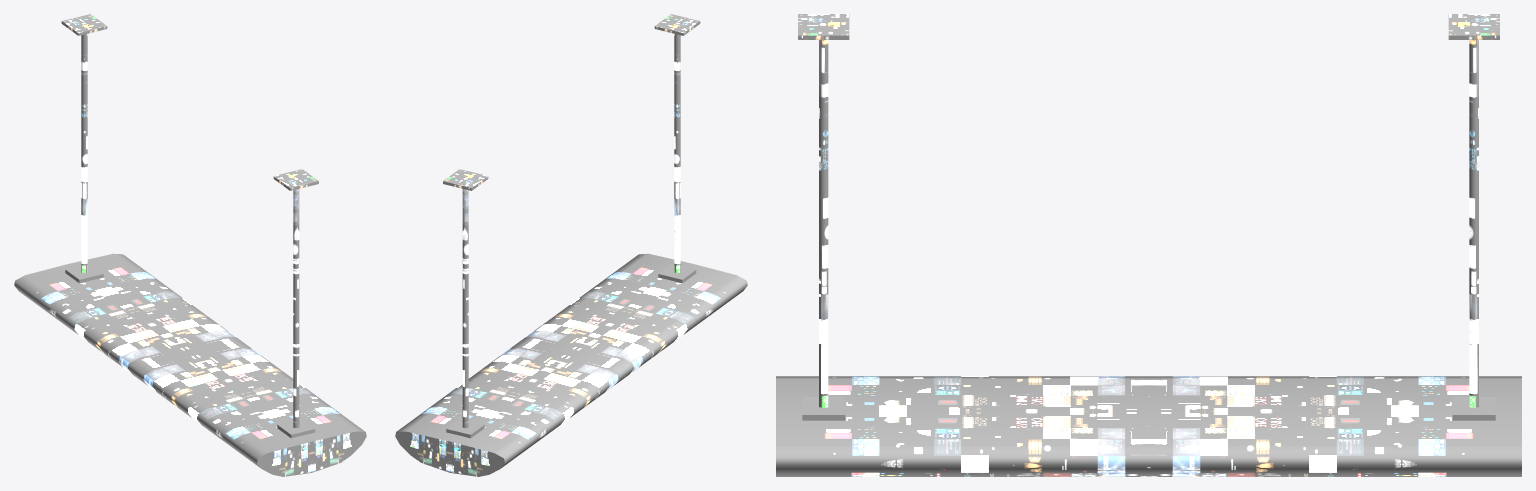
File: SM_Generic_Lighting_Chandelier_04_ATLAS.fbx
3 renders of one model, left to right at view 1: azimuth 30°, elevation 25°; view 2: azimuth 150°, elevation 25°; view 3: azimuth 270°, elevation 25°, orthographic. The views are drawn at different scales.
Parts seen in each view (by area): view 1: SM_Generic_Lighting_Chandelier_04_ATLAS; view 2: SM_Generic_Lighting_Chandelier_04_ATLAS; view 3: SM_Generic_Lighting_Chandelier_04_ATLAS.
Boxes of the visible parts, x1,y1,x2,y2 form: SM_Generic_Lighting_Chandelier_04_ATLAS: [14, 14, 366, 476]; SM_Generic_Lighting_Chandelier_04_ATLAS: [395, 14, 747, 476]; SM_Generic_Lighting_Chandelier_04_ATLAS: [776, 14, 1521, 476].
Bounding box in the file's own units: 41.74 × 160 × 103.
